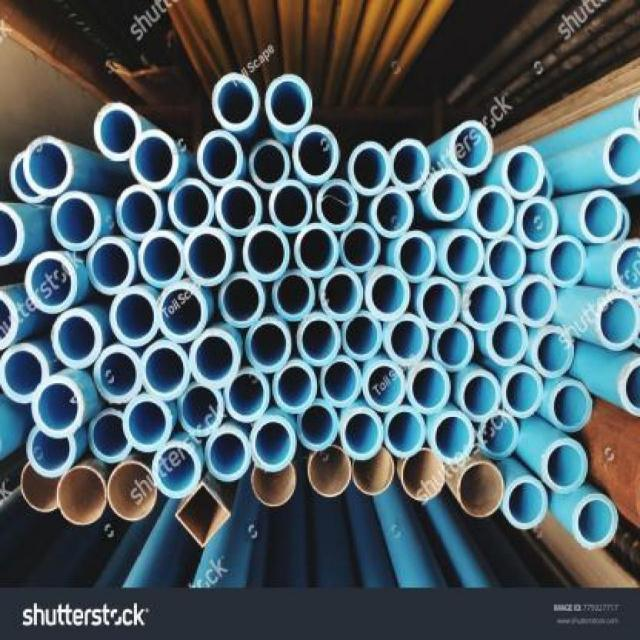pipe: (173, 481, 232, 552), (31, 375, 85, 438), (25, 252, 79, 314), (138, 339, 191, 401), (156, 282, 209, 343), (52, 308, 103, 369), (23, 137, 74, 197), (50, 191, 101, 251), (56, 466, 107, 526), (109, 286, 159, 347), (0, 342, 49, 404), (107, 461, 158, 520), (129, 130, 179, 190), (189, 329, 240, 387), (184, 228, 233, 287), (292, 125, 340, 185), (92, 347, 142, 404), (212, 73, 260, 132), (265, 75, 313, 134), (93, 102, 141, 161), (123, 396, 172, 453), (153, 441, 202, 498), (138, 231, 186, 288), (86, 238, 134, 295), (27, 425, 77, 479), (242, 225, 289, 282), (250, 415, 297, 472), (595, 293, 640, 352), (218, 273, 266, 328), (177, 382, 225, 437), (457, 462, 505, 517), (216, 181, 263, 237), (572, 494, 619, 550), (169, 178, 215, 235), (246, 317, 293, 372), (224, 367, 271, 422), (541, 439, 588, 494), (115, 185, 161, 241), (205, 428, 252, 482), (198, 130, 243, 186), (294, 222, 339, 278), (348, 142, 393, 196), (366, 267, 411, 321), (272, 359, 317, 413), (89, 409, 134, 463), (503, 476, 548, 530), (502, 145, 545, 201), (319, 268, 364, 321), (296, 313, 341, 366), (385, 314, 430, 367), (362, 359, 407, 412), (406, 362, 451, 415), (548, 380, 593, 433), (450, 121, 493, 175), (427, 168, 470, 222), (472, 186, 515, 240), (580, 189, 623, 243), (441, 229, 484, 283), (463, 277, 506, 331), (341, 406, 384, 460), (309, 443, 352, 497), (270, 181, 313, 234), (371, 187, 414, 240), (393, 231, 436, 284), (514, 274, 557, 327), (418, 277, 461, 330), (319, 355, 362, 408), (432, 411, 475, 464), (517, 196, 559, 250), (545, 235, 587, 289), (402, 450, 447, 500), (501, 366, 543, 419), (297, 399, 339, 452), (272, 270, 315, 321), (532, 326, 575, 377), (383, 406, 426, 457), (486, 315, 528, 366), (459, 370, 501, 421), (603, 128, 639, 187), (390, 138, 430, 191), (352, 446, 395, 495), (316, 180, 358, 230), (341, 311, 383, 361), (485, 237, 527, 286), (252, 462, 297, 507), (478, 411, 520, 459), (433, 322, 473, 372), (249, 140, 289, 189), (340, 222, 378, 273), (21, 463, 60, 512), (612, 236, 640, 297), (0, 202, 24, 265), (617, 354, 640, 419)
